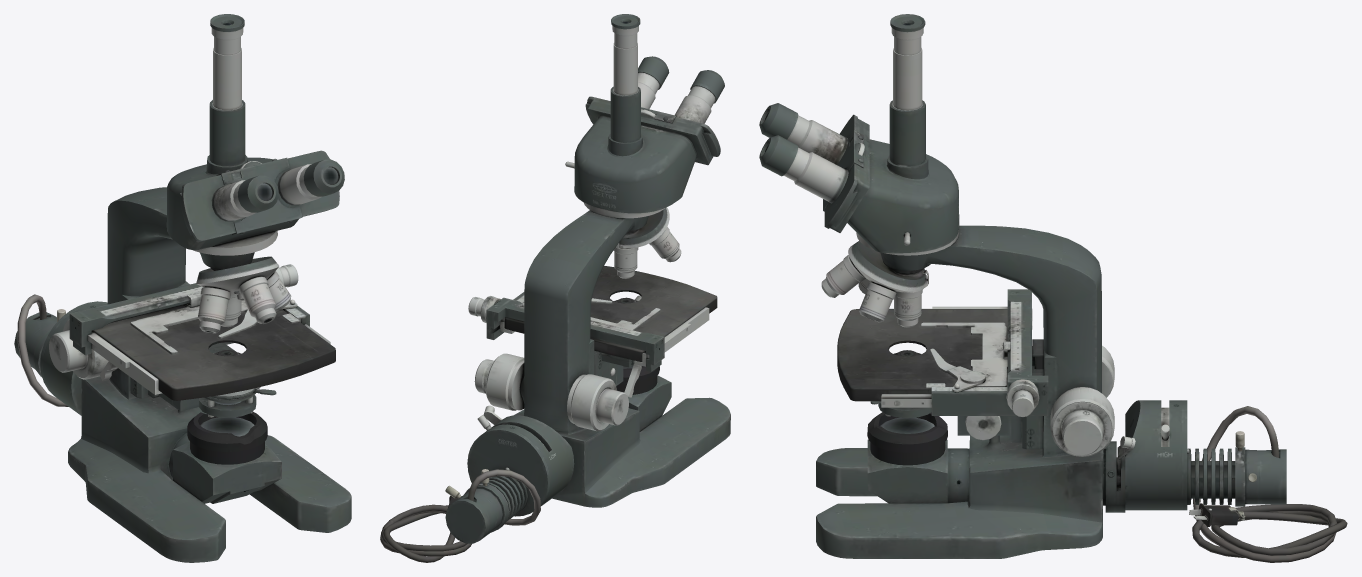
Rendered from industrial_microscope.glb.
3 renders of one model, left to right at view 1: azimuth 30°, elevation 25°; view 2: azimuth 150°, elevation 25°; view 3: azimuth 270°, elevation 25°, orthographic. The views are drawn at different scales.
Parts seen in each view (by area): view 1: industrial_microscope_cable; view 2: industrial_microscope_cable; view 3: industrial_microscope_cable.
Boxes of the visible parts, x1,y1,x2,y2 form: industrial_microscope_cable: (14, 14, 351, 562); industrial_microscope_cable: (380, 14, 730, 562); industrial_microscope_cable: (759, 14, 1347, 562).
Size of the model in its own units: 0.2145 by 0.4617 by 0.4981.
1 material, 1 textured.
